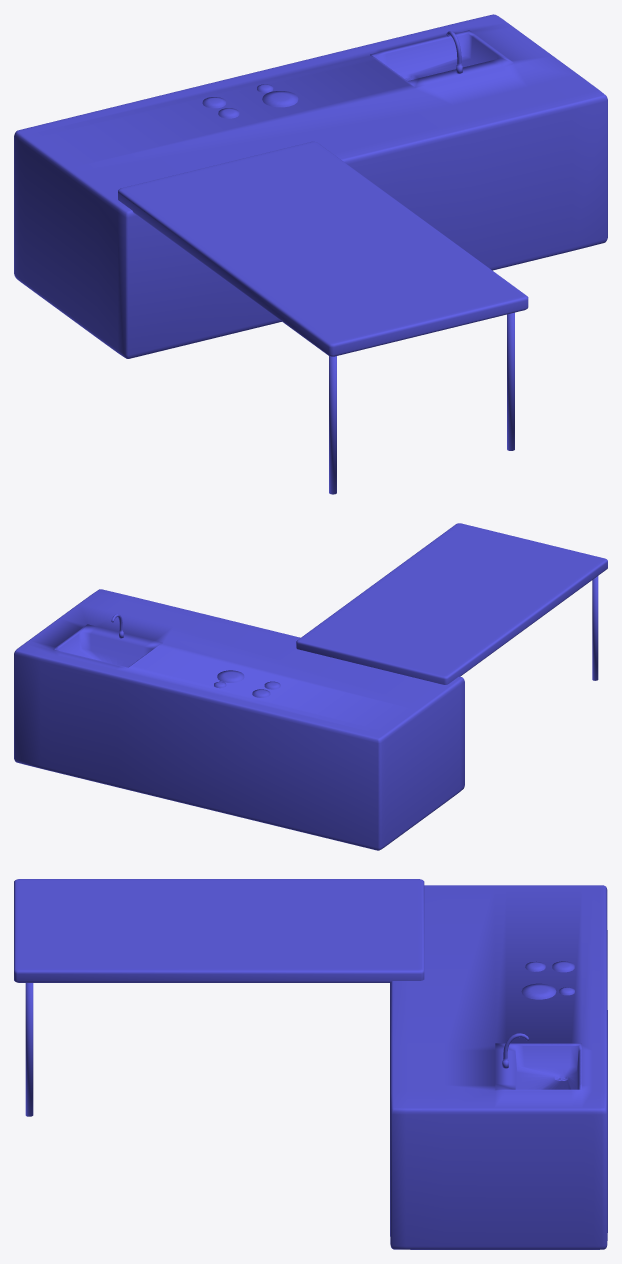
File: KitchenTable.obj
3 renders of one model, top to bottom at view 1: azimuth 30°, elevation 25°; view 2: azimuth 150°, elevation 25°; view 3: azimuth 270°, elevation 25°, orthographic. The views are drawn at different scales.
Parts seen in each view (by area): view 1: Box012; view 2: Box012; view 3: Box012.
Boxes of the visible parts, <box> form: Box012: <box>14,14,607,494</box>; Box012: <box>14,523,607,850</box>; Box012: <box>14,879,607,1249</box>.
Bounding box in the file's own units: 97.78 × 35.43 × 109.
